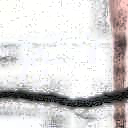crackTip: (1, 88, 128, 110)
